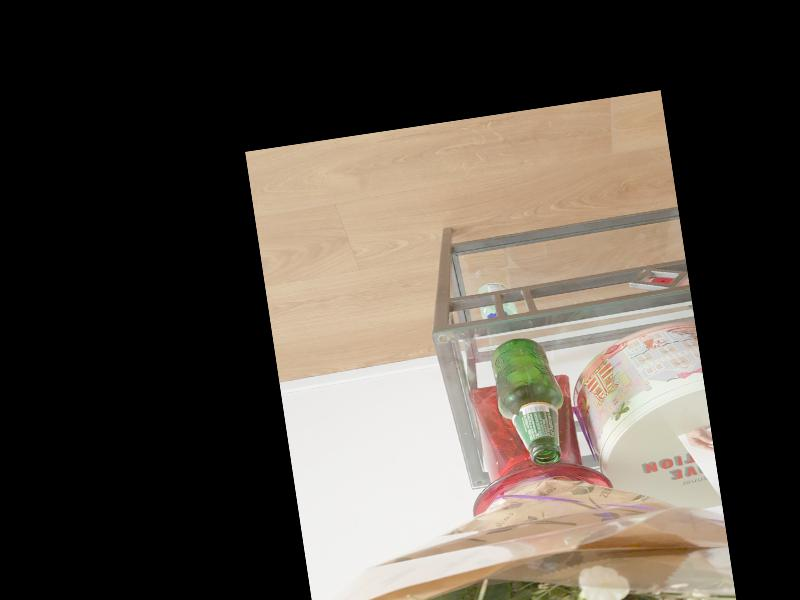Beer: (487, 332, 572, 469)
